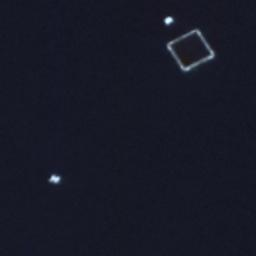square_solid: (162, 26, 220, 76)
